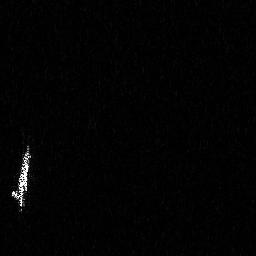ship: (9, 143, 32, 213)
